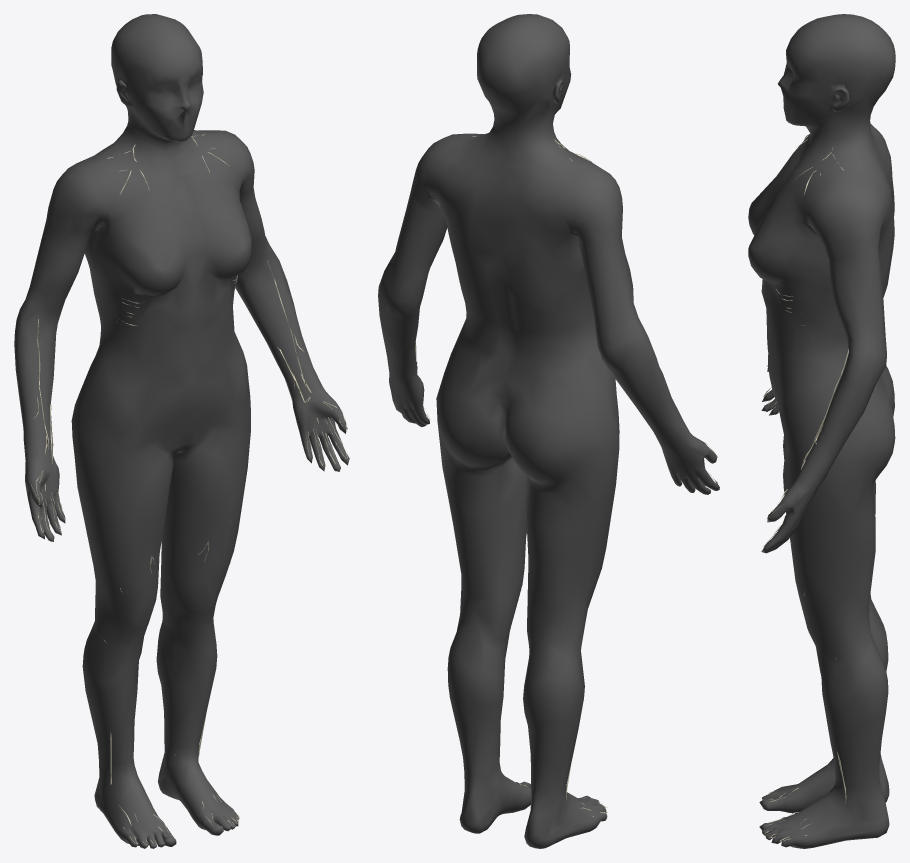
File: nervous-system.tablet.glb
The picture shows the model from 3 angles, left to right: view 1: azimuth 30°, elevation 25°; view 2: azimuth 150°, elevation 25°; view 3: azimuth 270°, elevation 25°; orthographic projection.
Parts seen in each view (by area): view 1: female_skin_1, nervous_system_2; view 2: female_skin_1; view 3: female_skin_1, nervous_system_2.
Part boxes in pixels (left/top/right/bottom): female_skin_1: left=14, top=14, right=349, bottom=848; nervous_system_2: left=30, top=134, right=347, bottom=845; female_skin_1: left=378, top=14, right=719, bottom=848; female_skin_1: left=748, top=14, right=895, bottom=848; nervous_system_2: left=762, top=134, right=848, bottom=841.
Bounding box in the file's own units: 24154 × 59078 × 9758.
Materials: 2 (1 with a texture image).
